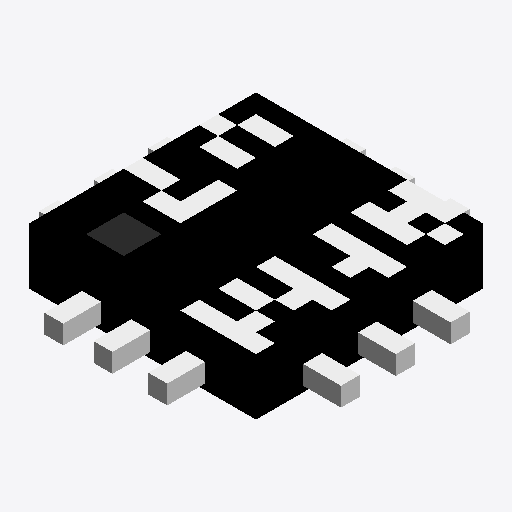
Isometric view (azimuth 45°, elevation 35.3°) of a Minecraft model made of 7 cuboids, textured from the same repository.
Parts seen in each view (by area): chip, element 5, element 4, element 1, element 2, element 3, element 6.
Boxes of the visible parts, box(x1,y1,x2,y2) form: chip: box(29, 93, 482, 418); element 5: box(44, 138, 365, 344); element 4: box(148, 198, 469, 404); element 1: box(148, 137, 469, 343); element 2: box(39, 200, 359, 406); element 3: box(94, 169, 414, 375); element 6: box(94, 167, 414, 373).
Bounding box in the file's own units: 16 × 3 × 16.